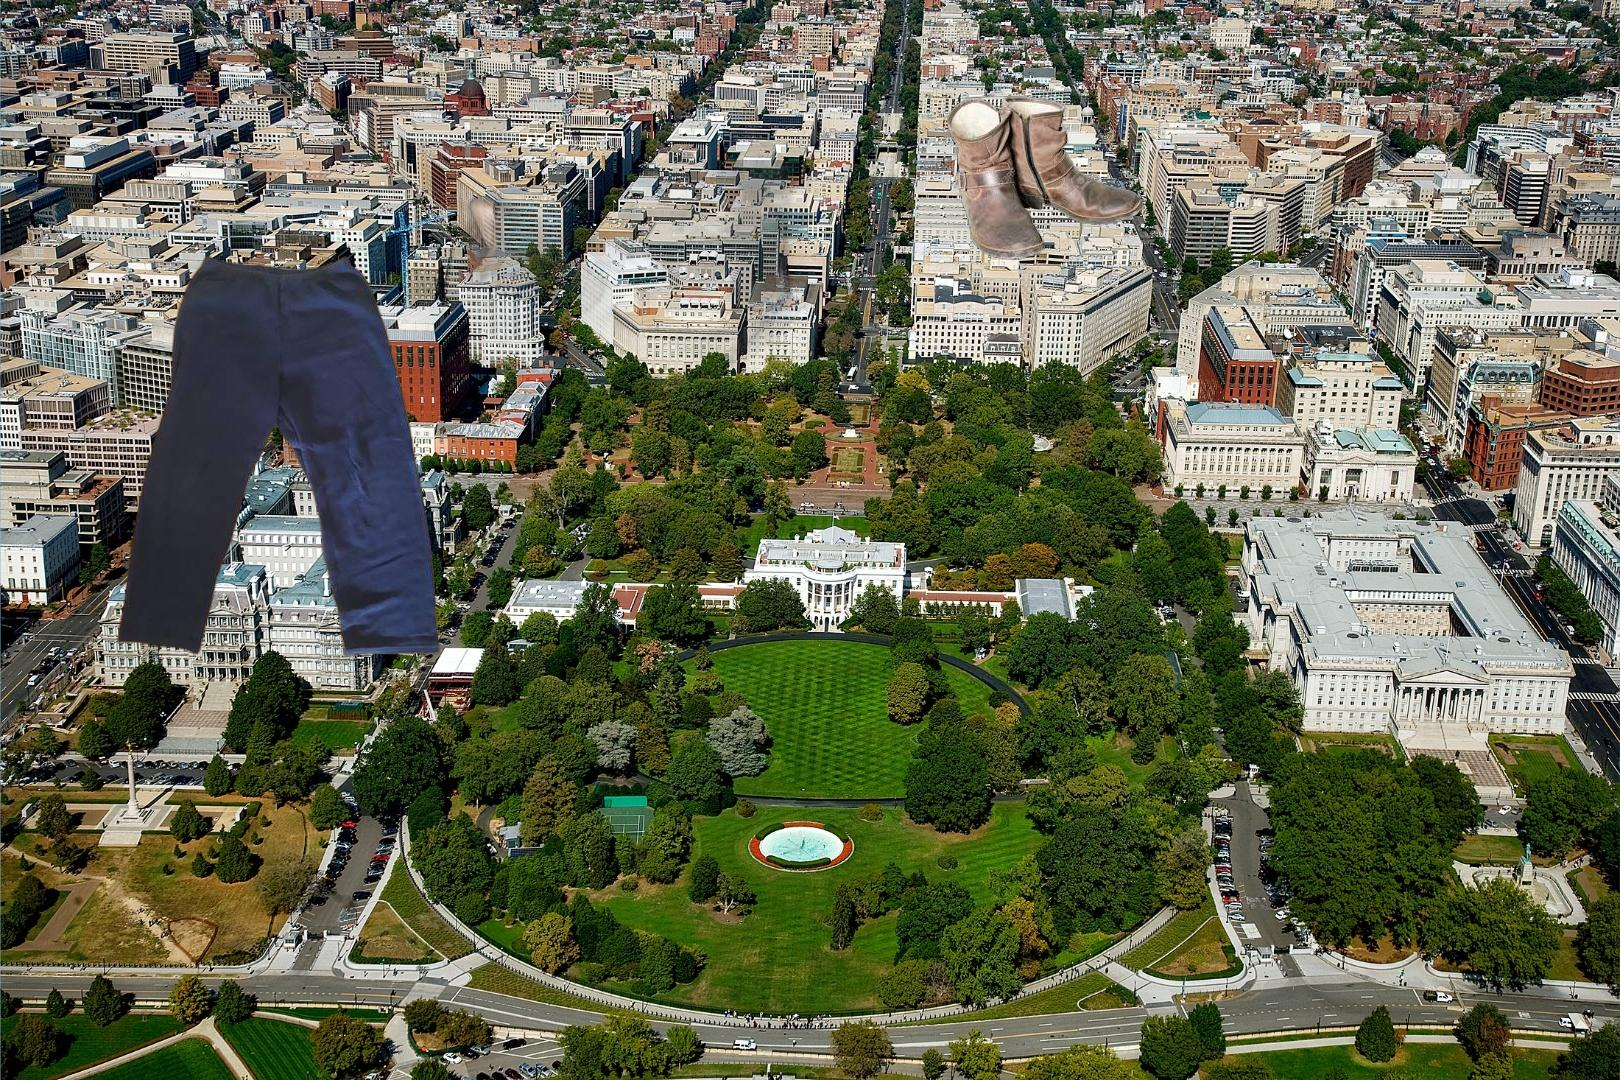clothes: (114, 251, 444, 661)
paper: (307, 160, 819, 544)
shoes: (944, 94, 1146, 263)
